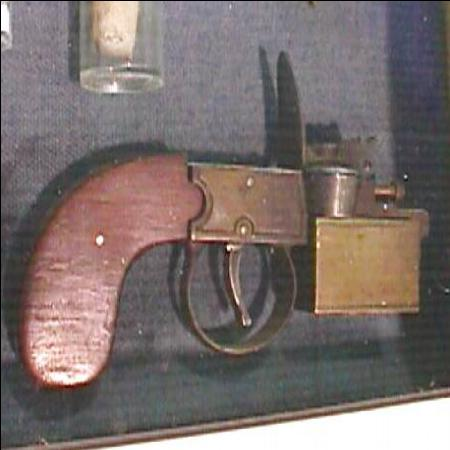Pistol: (24, 140, 436, 388)
